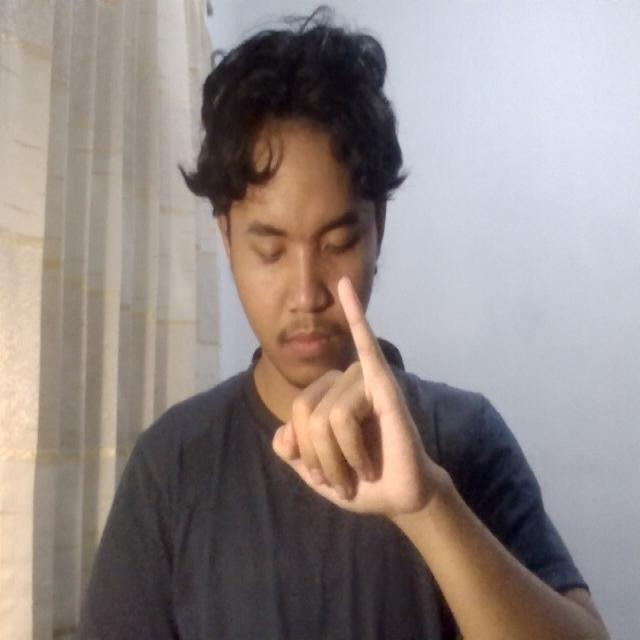Hello: (261, 265, 456, 536)
